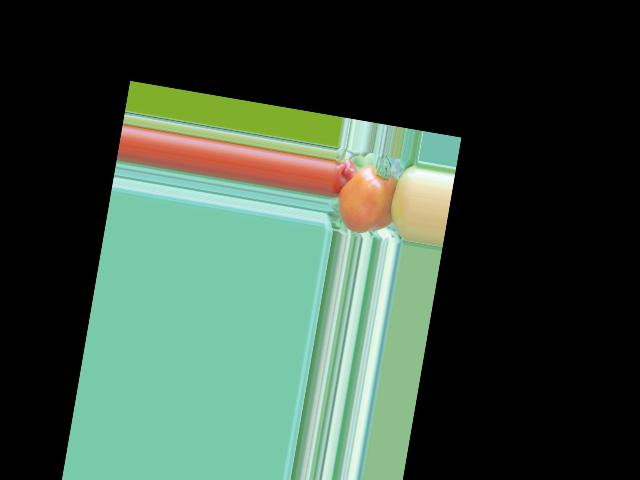tomato: (333, 160, 398, 237)
